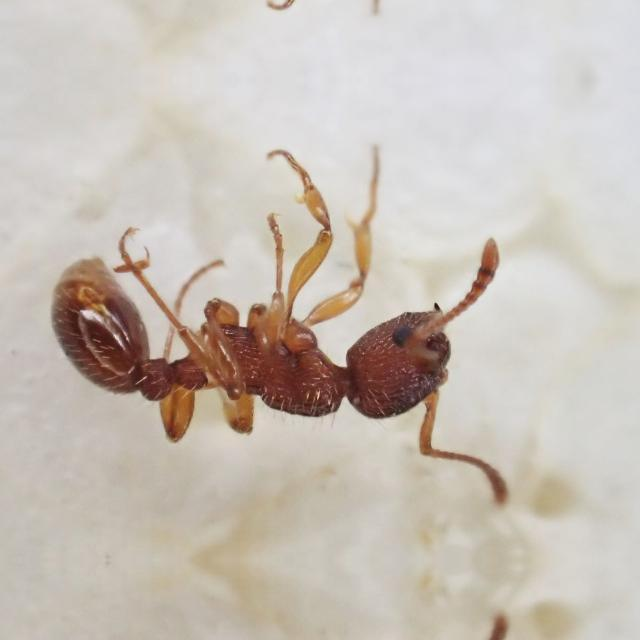Myrmica: (50, 182, 542, 484)
